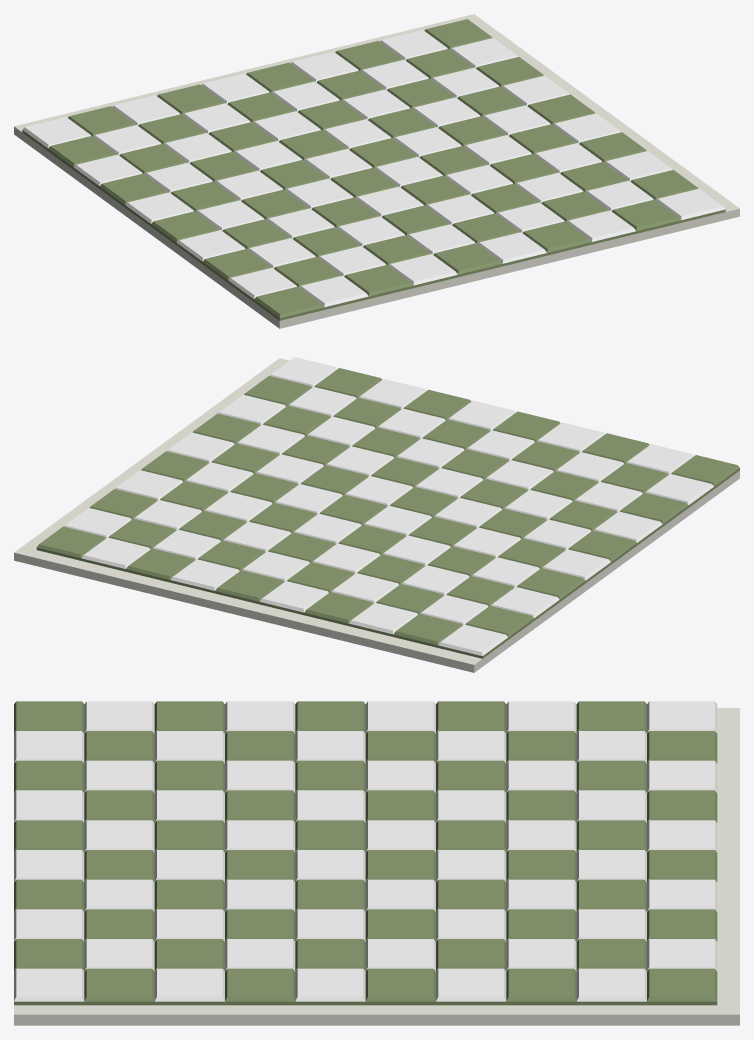
The model's file is Restaurant Floors.fbx.
3 renders of one model, top to bottom at view 1: azimuth 30°, elevation 25°; view 2: azimuth 150°, elevation 25°; view 3: azimuth 270°, elevation 25°, orthographic. The views are drawn at different scales.
Parts seen in each view (by area): view 1: Restaurant Floor 031; view 2: Restaurant Floor 031; view 3: Restaurant Floor 031.
Part boxes in pixels (left/top/right/bottom): Restaurant Floor 031: left=14, top=14, right=739, bottom=328; Restaurant Floor 031: left=14, top=357, right=739, bottom=672; Restaurant Floor 031: left=14, top=701, right=739, bottom=1025.
Size of the model in its own units: 450 by 12.74 by 450.
